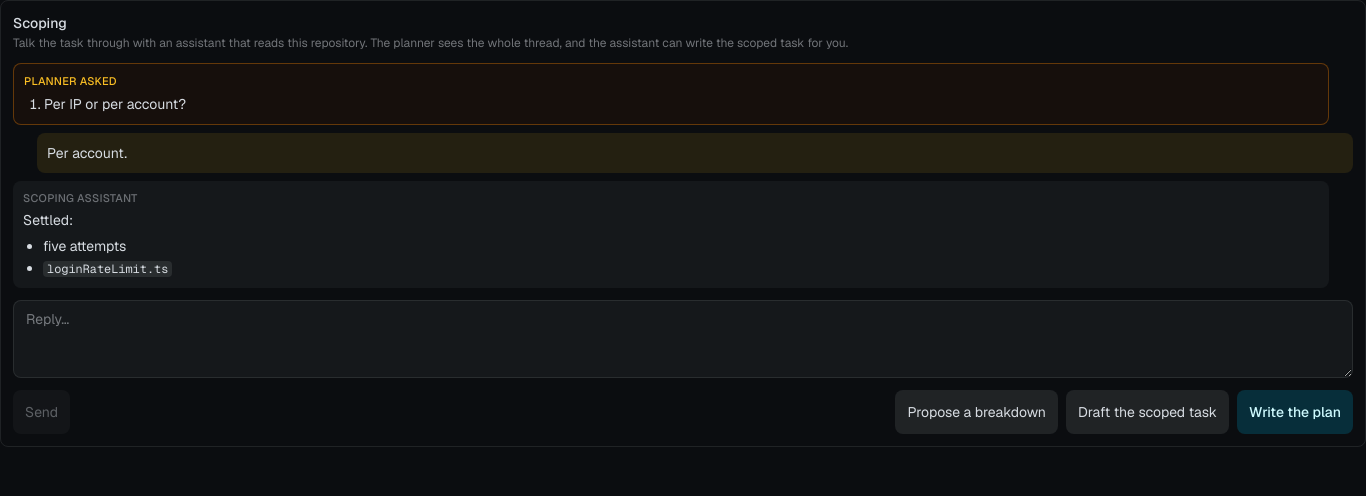
Test: ScopingPanel › offers the plan button only to a card that opted in, and reports where it landed
The image size is (1366, 496).
Click the button "Write the plan" at (1295, 412), box [1237,390,1353,434]
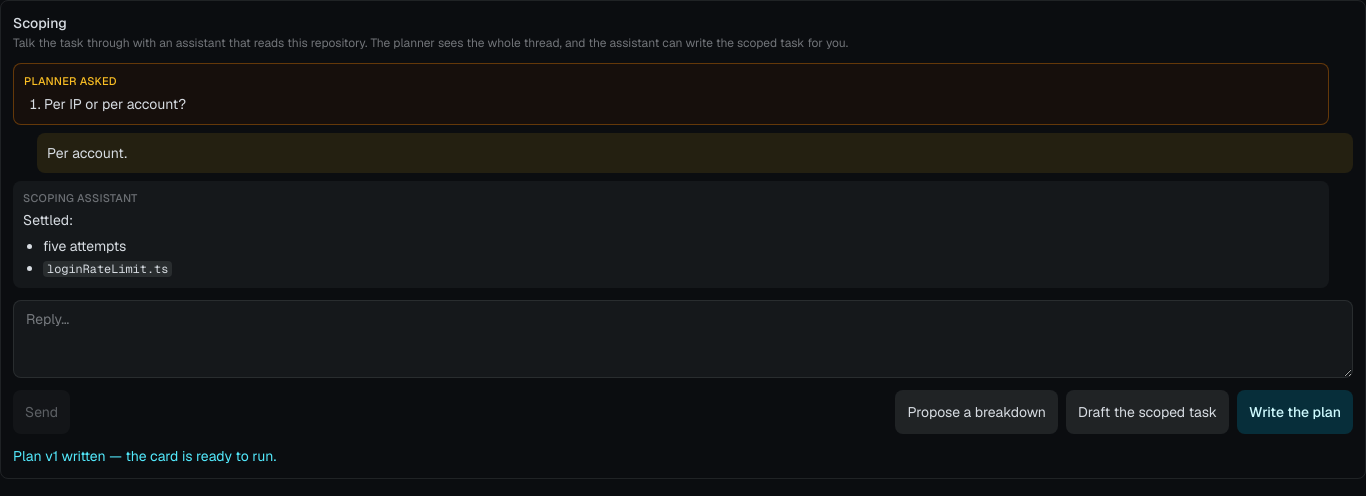
Result: the text "Plan v1 written — the card is ready to run." is shown at [13,447,276,465]
